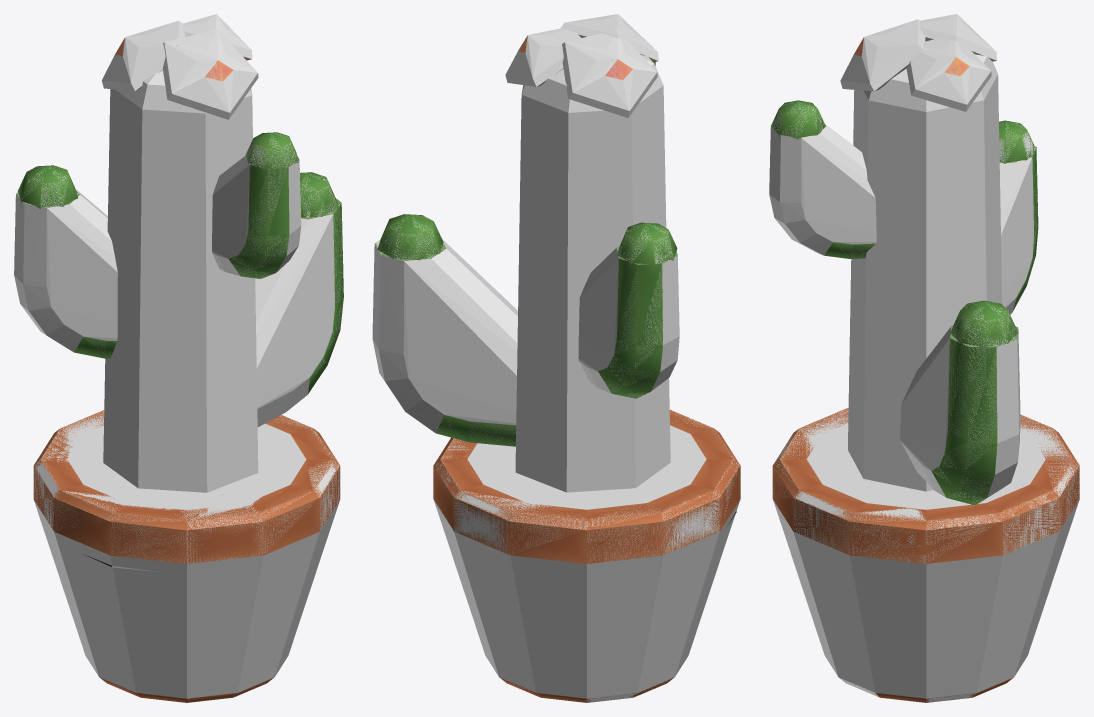
The model's file is potted_cactus.glb.
3 views of the same model, side by side, from view 1: azimuth 30°, elevation 25°; view 2: azimuth 150°, elevation 25°; view 3: azimuth 270°, elevation 25° (orthographic).
Parts seen in each view (by area): view 1: COL_potted_cactus_08, COL_potted_cactus_00, pot, COL_potted_cactus_02, COL_potted_cactus_01, COL_potted_cactus_11, COL_potted_cactus_03, arm_2, COL_potted_cactus_10, arm_tip_1, arm_0, arm_tip_2 (+4 smaller); view 2: COL_potted_cactus_00, COL_potted_cactus_08, COL_potted_cactus_01, pot, COL_potted_cactus_02, arm_1, COL_potted_cactus_10, COL_potted_cactus_09, arm_tip_0, arm_tip_1, arm_0, COL_potted_cactus_11; view 3: COL_potted_cactus_00, COL_potted_cactus_08, pot, COL_potted_cactus_03, COL_potted_cactus_01, arm_0, COL_potted_cactus_02, COL_potted_cactus_09, COL_potted_cactus_11, arm_tip_0, COL_potted_cactus_10, arm_tip_2 (+4 smaller).
Part boxes in pixels (<box>): COL_potted_cactus_08: <box>103,70,258,492</box>; COL_potted_cactus_00: <box>33,410,340,698</box>; pot: <box>33,410,340,702</box>; COL_potted_cactus_02: <box>14,189,117,357</box>; COL_potted_cactus_01: <box>255,198,343,426</box>; COL_potted_cactus_11: <box>162,29,258,119</box>; COL_potted_cactus_03: <box>212,156,301,278</box>; arm_2: <box>228,155,299,278</box>; COL_potted_cactus_10: <box>101,20,185,91</box>; arm_tip_1: <box>18,165,77,208</box>; arm_0: <box>301,198,343,393</box>; arm_tip_2: <box>245,132,298,170</box>; COL_potted_cactus_00: <box>433,411,739,702</box>; COL_potted_cactus_08: <box>515,55,670,492</box>; COL_potted_cactus_01: <box>372,239,517,445</box>; pot: <box>433,410,740,702</box>; COL_potted_cactus_02: <box>578,248,679,396</box>; arm_1: <box>598,246,677,398</box>; COL_potted_cactus_10: <box>562,29,657,118</box>; COL_potted_cactus_09: <box>505,28,581,86</box>; arm_tip_0: <box>377,214,443,260</box>; arm_tip_1: <box>617,222,677,266</box>; arm_0: <box>375,239,516,446</box>; COL_potted_cactus_11: <box>561,14,658,61</box>; COL_potted_cactus_00: <box>772,408,1079,702</box>; COL_potted_cactus_08: <box>848,54,1002,491</box>; pot: <box>772,408,1079,702</box>; COL_potted_cactus_03: <box>769,124,876,258</box>; COL_potted_cactus_01: <box>900,327,1020,505</box>; arm_0: <box>931,326,1018,505</box>; COL_potted_cactus_02: <box>999,146,1037,314</box>; COL_potted_cactus_09: <box>906,38,991,111</box>; COL_potted_cactus_11: <box>840,19,925,91</box>; arm_tip_0: <box>950,300,1018,347</box>; COL_potted_cactus_10: <box>904,14,996,60</box>; arm_tip_2: <box>771,100,825,139</box>.
Size of the model in its own units: 0.3191 by 0.6176 by 0.2752.
4 materials, 4 textured.
